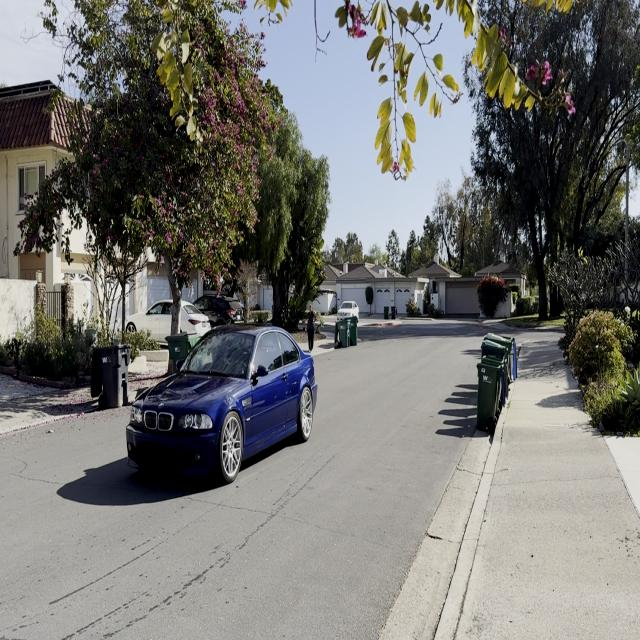Carbeetle: (112, 303, 326, 496)
